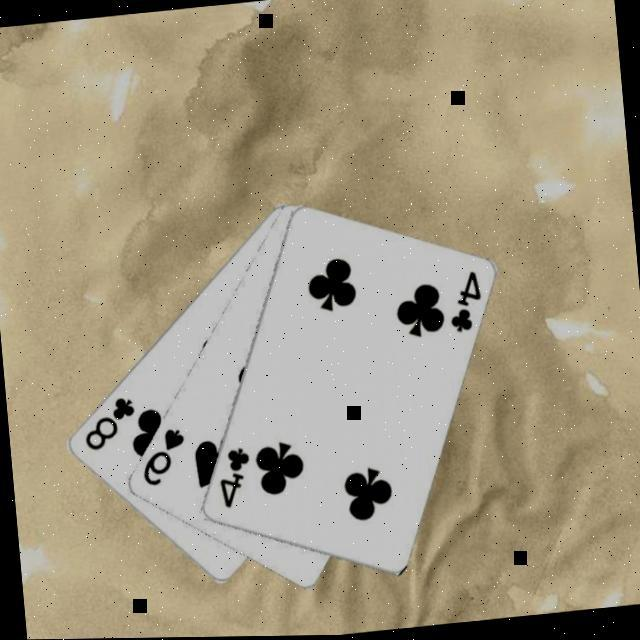4C: (440, 270, 486, 340), (211, 446, 255, 514)
6S: (133, 426, 190, 493)
8C: (76, 394, 139, 456)
